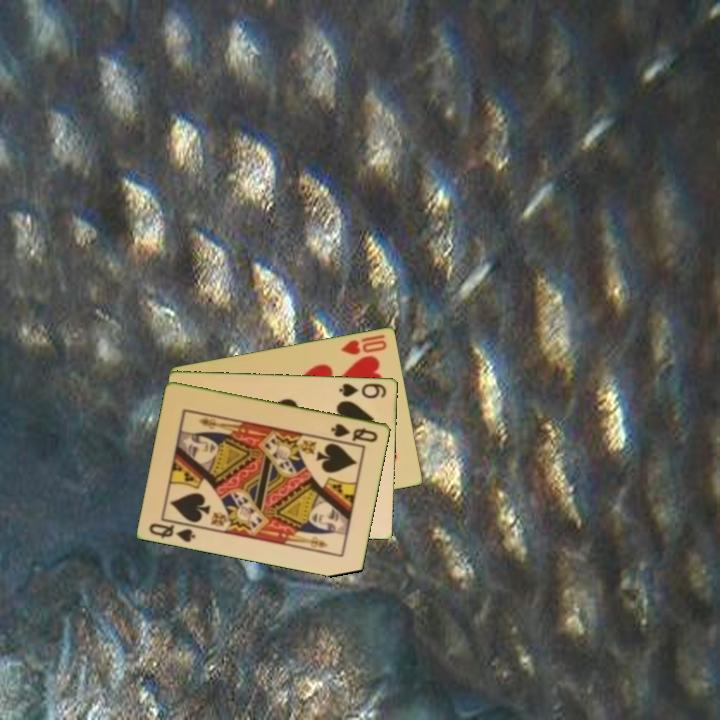10h: (338, 331, 390, 358)
6s: (336, 379, 389, 401)
Qs: (146, 519, 198, 545), (328, 420, 381, 445)
